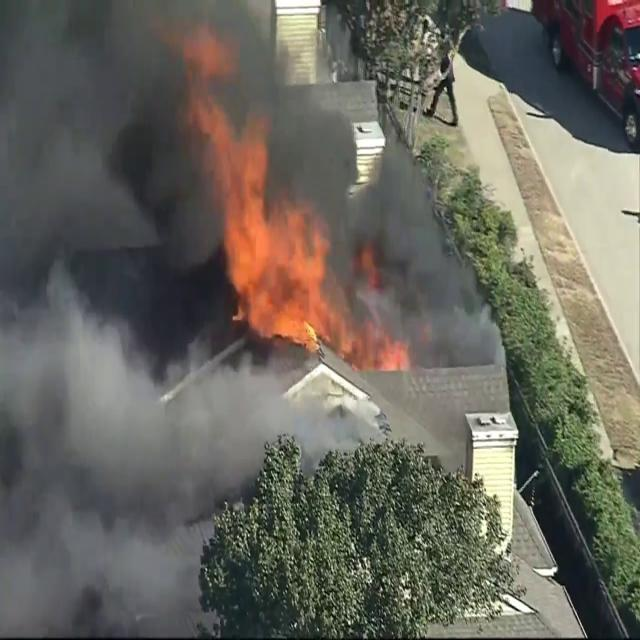Fire: (186, 67, 342, 353)
Smoke: (0, 0, 226, 632), (330, 78, 498, 462)
